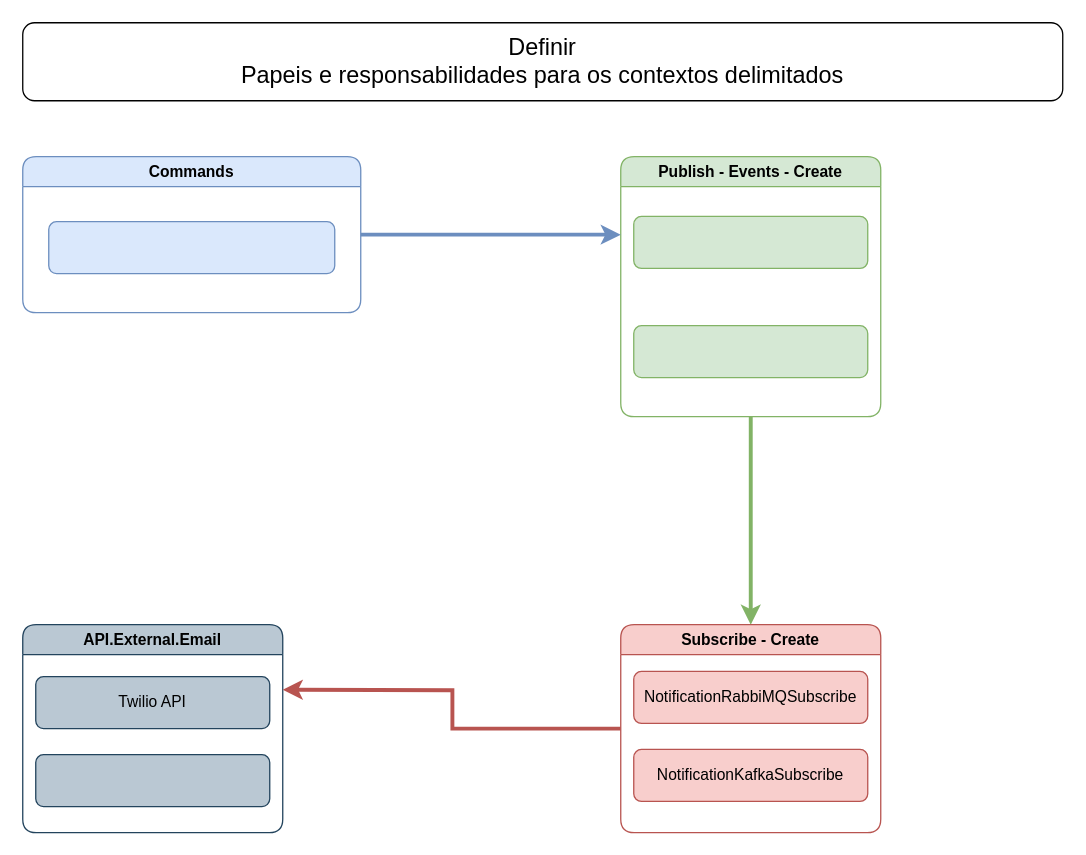
The diagram is 1086 pixels wide and 855 high, and some of its shapes have lost their labels. The centre of each missing label's shape, as x and y in pixels:
CreateNotificationCommand: point (191, 247)
INotificationRabbiMQPublish: point (750, 241)
NotificationKafkaPublish: point (750, 351)
SendGrid API: point (152, 780)
